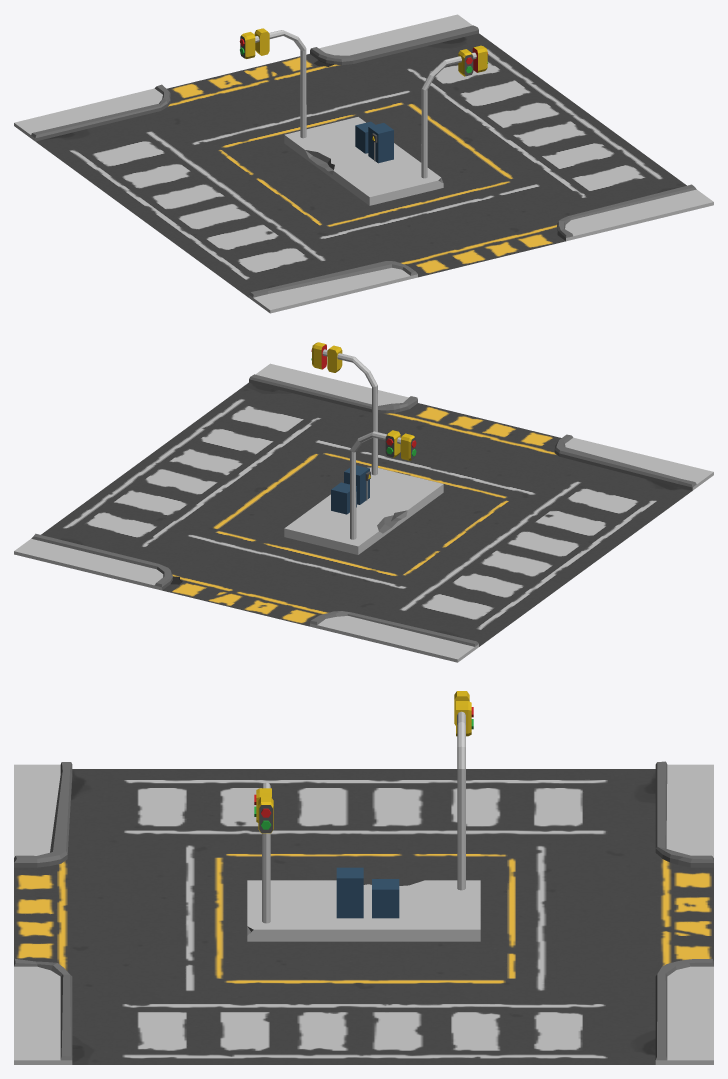
File: Crossway_To_Road_S_02.fbx
3 renders of one model, top to bottom at view 1: azimuth 30°, elevation 25°; view 2: azimuth 150°, elevation 25°; view 3: azimuth 270°, elevation 25°, orthographic. The views are drawn at different scales.
Visible parts, largest first — view 1: Crossway_To_Road_S_02; view 2: Crossway_To_Road_S_02; view 3: Crossway_To_Road_S_02.
Part boxes in pixels (box(x1,y1,x2,y2)): Crossway_To_Road_S_02: box(14, 14, 713, 313); Crossway_To_Road_S_02: box(14, 342, 713, 662); Crossway_To_Road_S_02: box(14, 691, 713, 1064).
Bounding box in the file's own units: 2400 × 653 × 2400.
